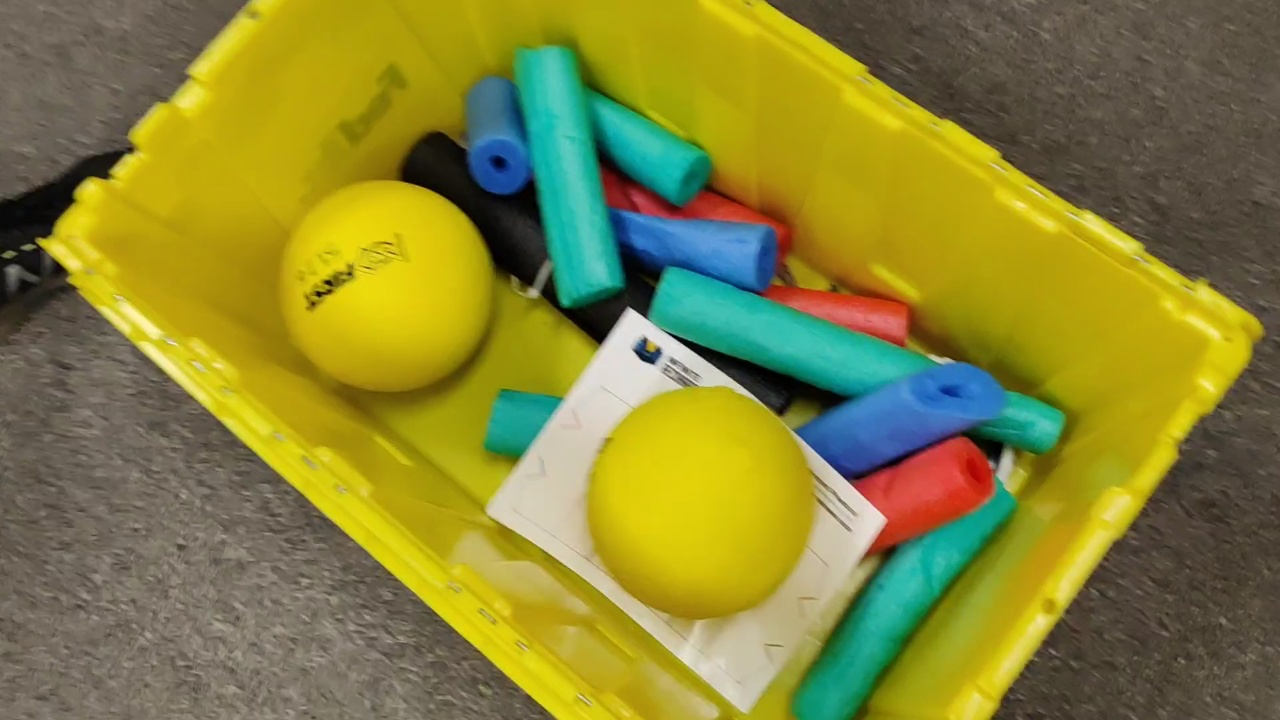Ball: (592, 388, 814, 616), (285, 182, 496, 389)
